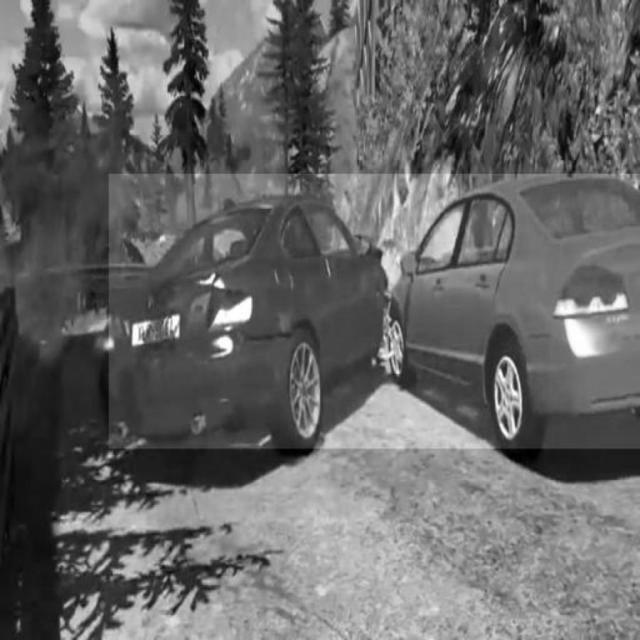accident: (109, 175, 640, 449)
